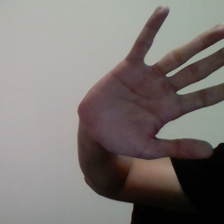left: (72, 1, 224, 173)
